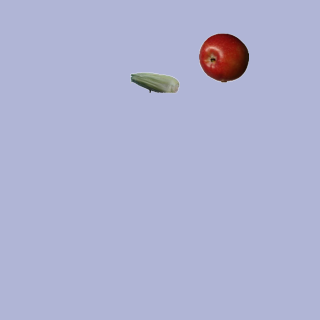Apple Braeburn: (198, 32, 248, 82)
Corn Husk: (129, 57, 179, 107)
